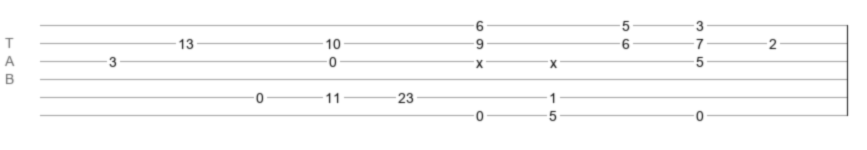0: (256, 90, 264, 100), (329, 54, 337, 64), (476, 108, 484, 118), (696, 108, 704, 118)
1: (549, 90, 557, 100)
10: (325, 36, 341, 46)
11: (325, 90, 341, 100)
13: (178, 36, 194, 46)
2: (769, 36, 777, 46)
23: (398, 90, 414, 100)
3: (109, 54, 117, 64), (696, 18, 704, 28)
5: (549, 108, 557, 118), (622, 18, 630, 28), (696, 54, 704, 64)
6: (476, 18, 484, 28), (622, 36, 630, 46)
7: (696, 36, 704, 46)
9: (476, 36, 484, 46)
x: (476, 55, 483, 63), (550, 55, 557, 63)
